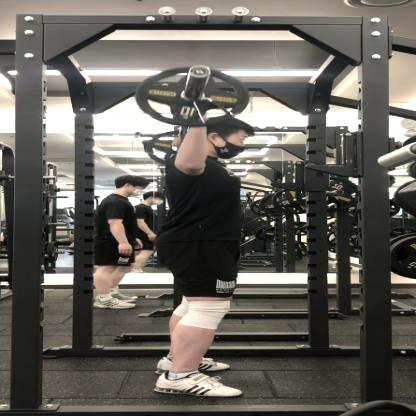Barbell: (185, 65, 210, 80)
